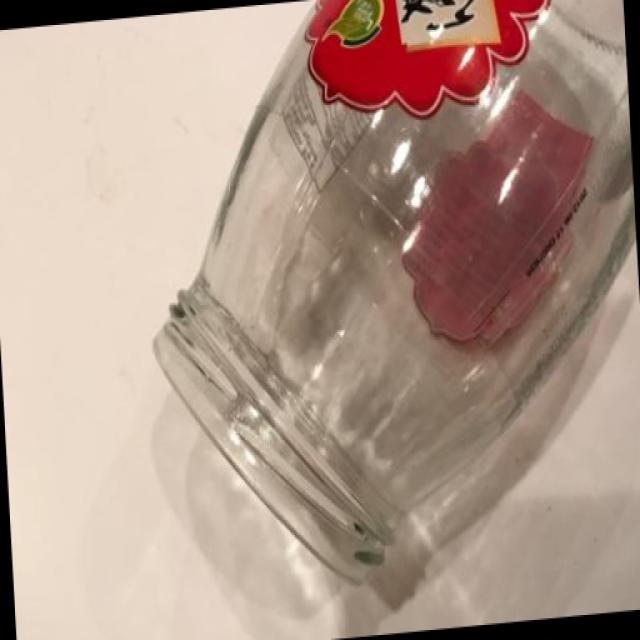vidrio: (150, 3, 640, 583)
